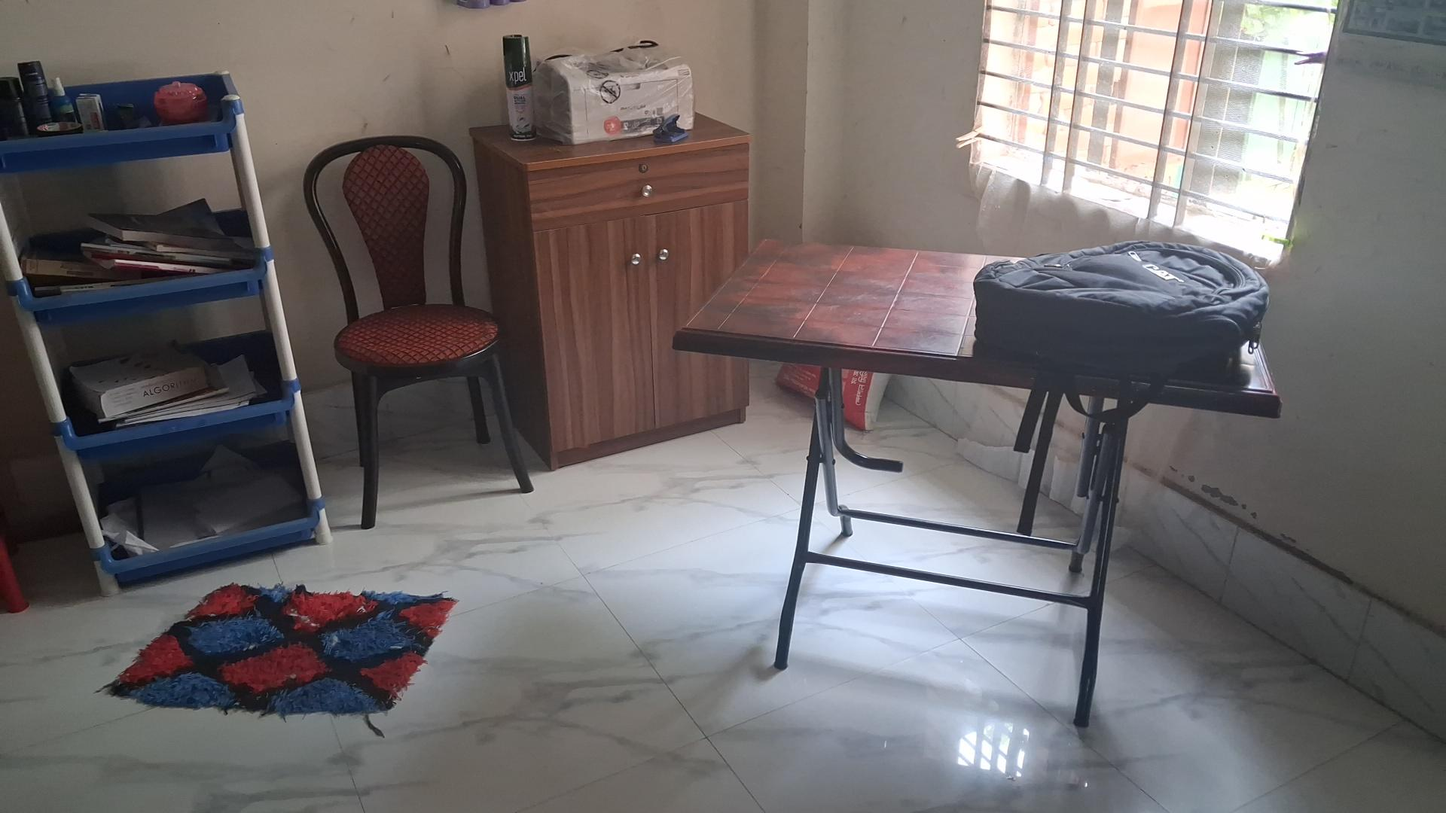Bag: (976, 241, 1266, 377)
Bottle: (502, 34, 540, 143)
Chair: (302, 133, 535, 529)
Floor Mat: (99, 585, 462, 709)
Rack: (0, 72, 332, 576)
Table: (671, 232, 1284, 706)
